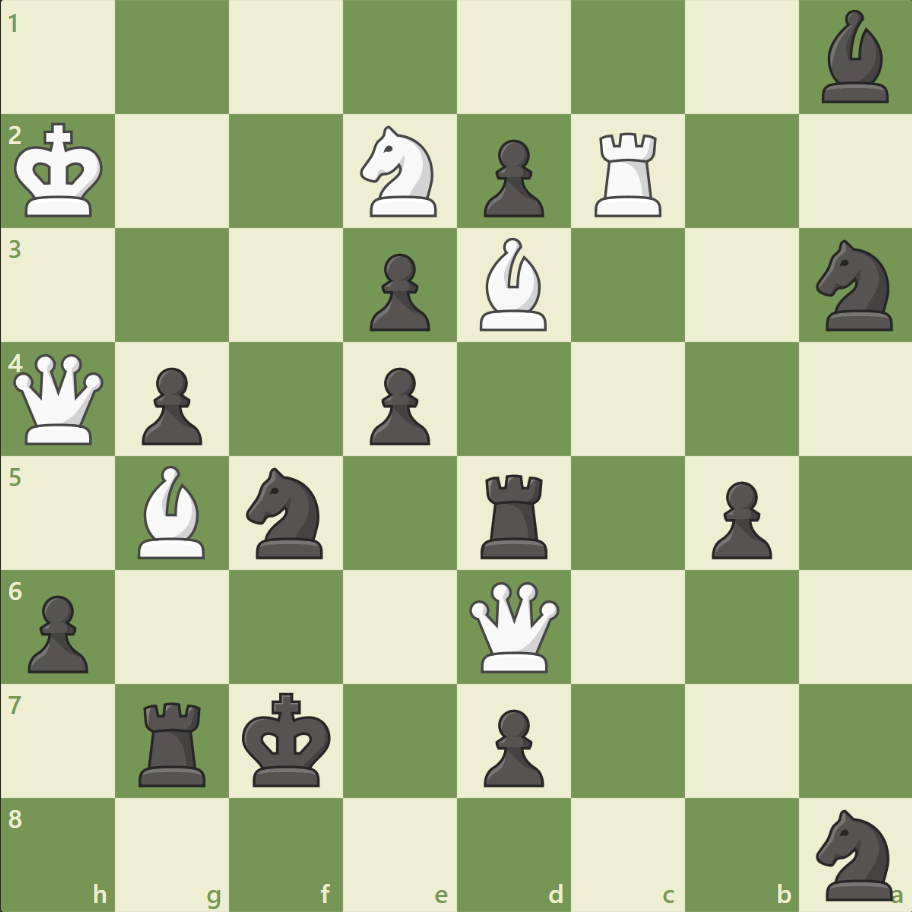B: (131, 460, 215, 563), (471, 233, 555, 336)
K: (11, 117, 111, 225)
N: (351, 121, 449, 223)
Q: (464, 576, 563, 676), (10, 349, 109, 449)
R: (587, 125, 670, 222)
b: (812, 6, 896, 109)
k: (238, 685, 338, 793)
n: (238, 461, 335, 564), (806, 234, 903, 337), (806, 802, 903, 904)
p: (474, 700, 549, 791), (20, 586, 95, 677), (701, 473, 776, 564), (133, 359, 208, 450), (474, 132, 549, 223), (361, 359, 435, 450), (361, 246, 435, 337)
r: (473, 466, 556, 563), (133, 693, 215, 790)
